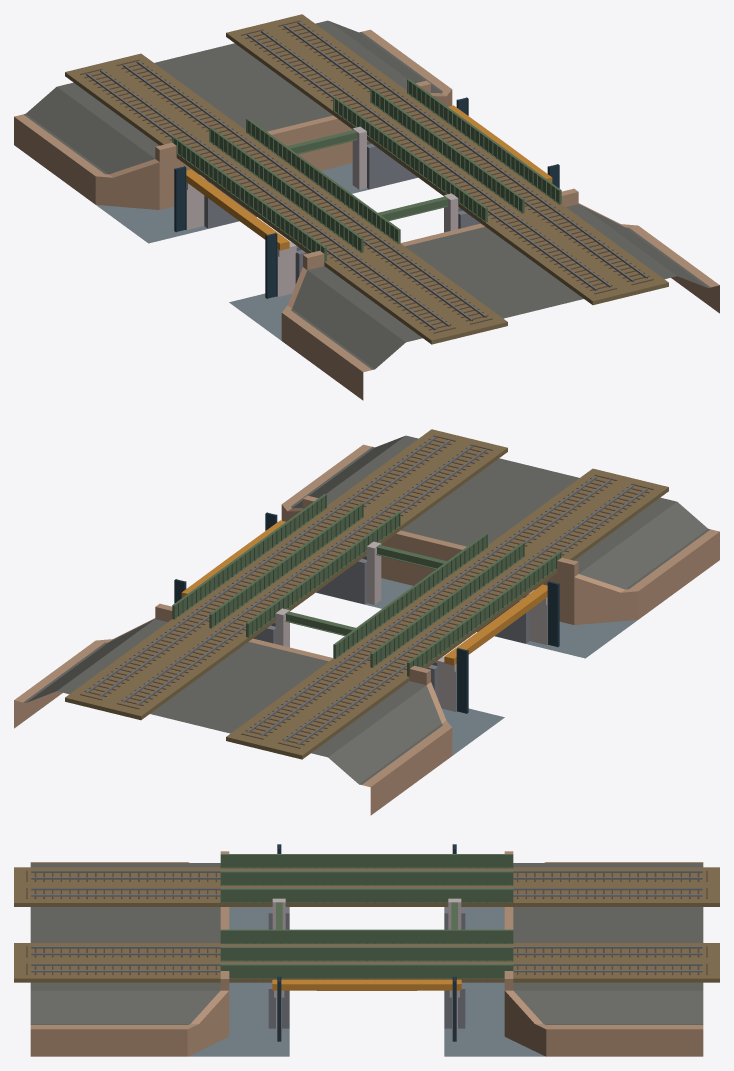
File: MontyBridge.V3fbx.fbx
3 renders of one model, top to bottom at view 1: azimuth 30°, elevation 25°; view 2: azimuth 150°, elevation 25°; view 3: azimuth 270°, elevation 25°, orthographic. The views are drawn at different scales.
Visible parts, largest first — view 1: Bridge_Base, Bridge_Cover; view 2: Bridge_Base, Bridge_Cover; view 3: Bridge_Base, Bridge_Cover.
Part boxes in pixels (<box>): Bridge_Base: <box>14,14,719,400</box>; Bridge_Cover: <box>172,79,561,298</box>; Bridge_Base: <box>14,429,719,815</box>; Bridge_Cover: <box>172,494,561,713</box>; Bridge_Base: <box>14,851,719,1056</box>; Bridge_Cover: <box>220,844,513,1041</box>.
Size of the model in its own units: 0.4604 by 0.0813 by 0.82.
Materials: 1 (1 with a texture image).
